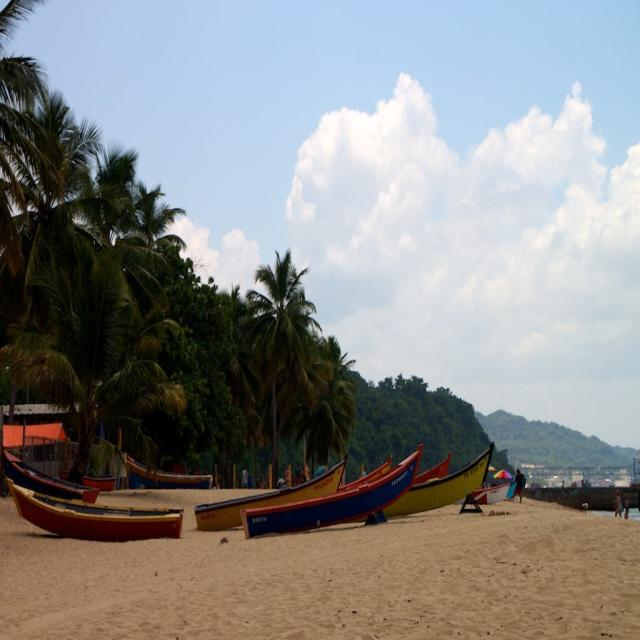Boat: (237, 443, 423, 539), (195, 454, 347, 536), (8, 481, 178, 542), (381, 441, 495, 519), (0, 453, 100, 502), (125, 460, 214, 488), (415, 451, 452, 484), (474, 482, 517, 508)
